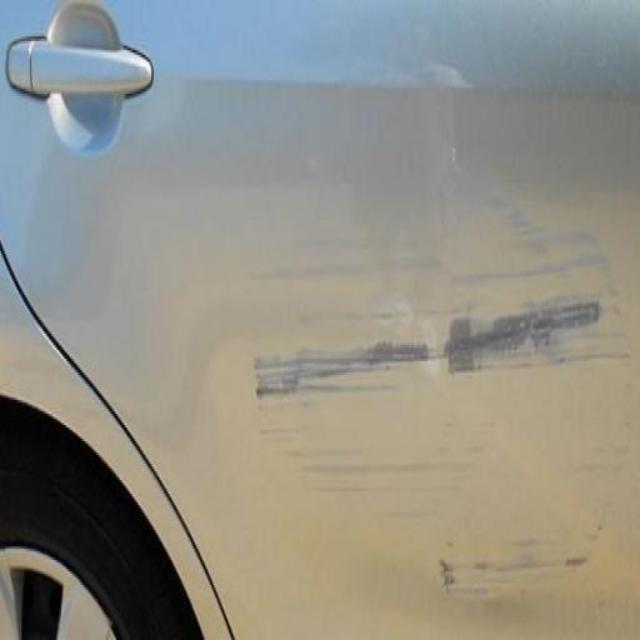rub: (248, 137, 633, 604)
